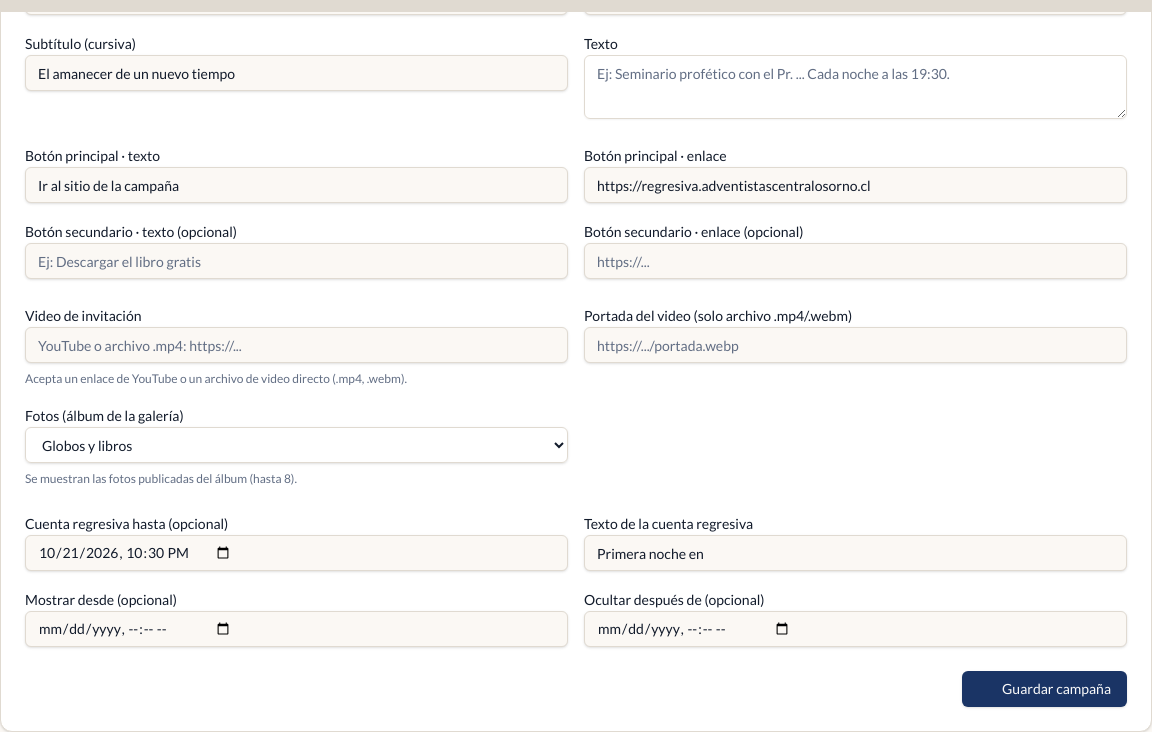
Test: CampaignConfigForm › rejects a URL without protocol
(page scrolled)
Replace the text in the field labelled "Botón principal · enlace" with "regresiva.adventistascentralosorno.cl": (856, 185) [584,167,1127,203]
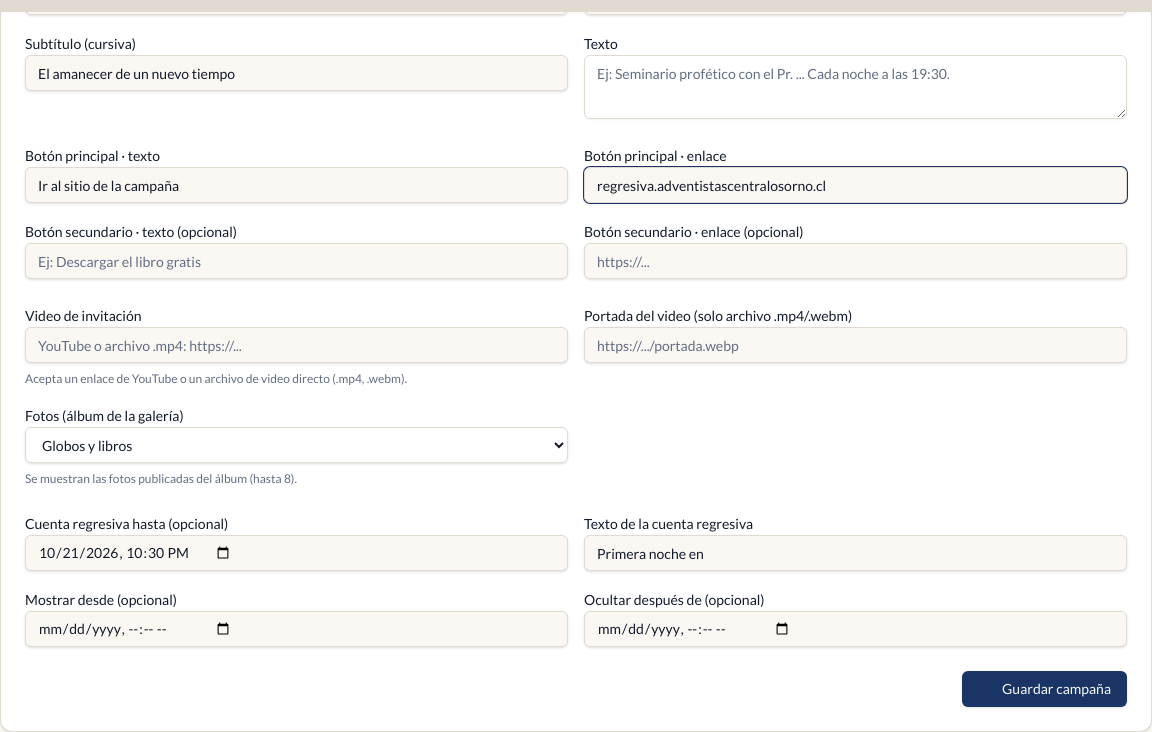
Click the button with test id "campaign-save-button": (1045, 689) [962,671,1127,707]
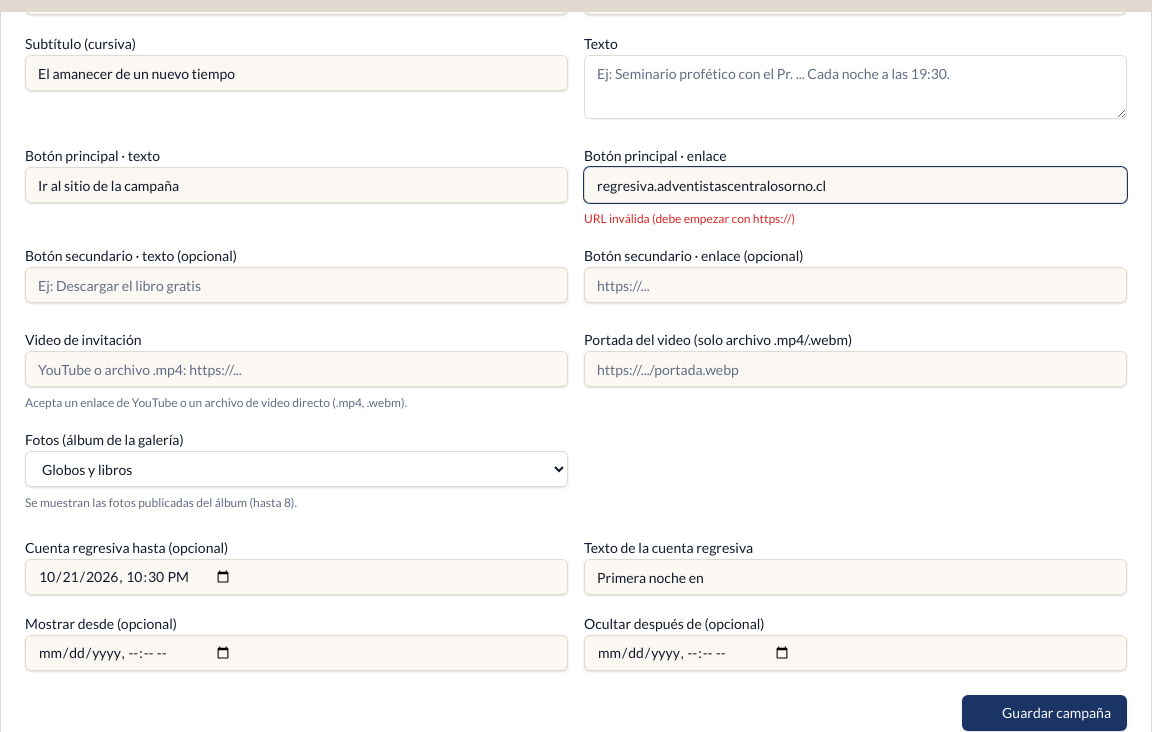
Expected: the text "URL inválida (debe empezar con https://)" is shown, [584,211,795,226]
